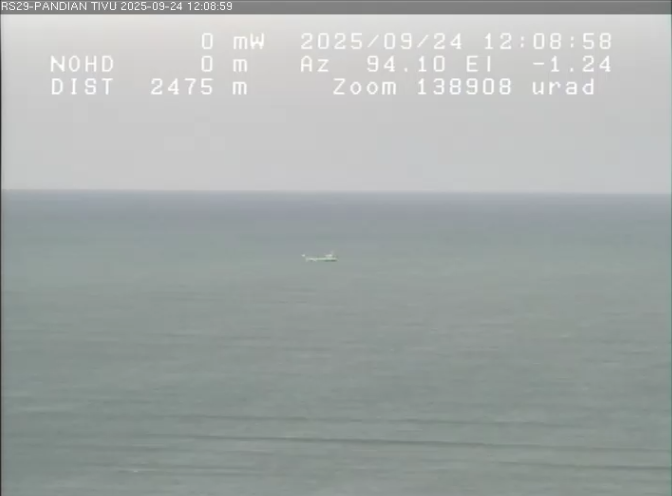FISHING_BOAT: (287, 236, 358, 279)
